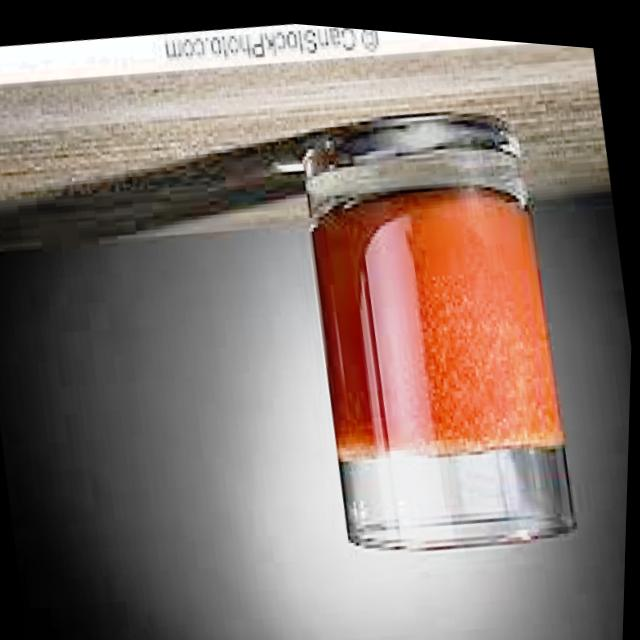drink: (272, 95, 600, 588)
